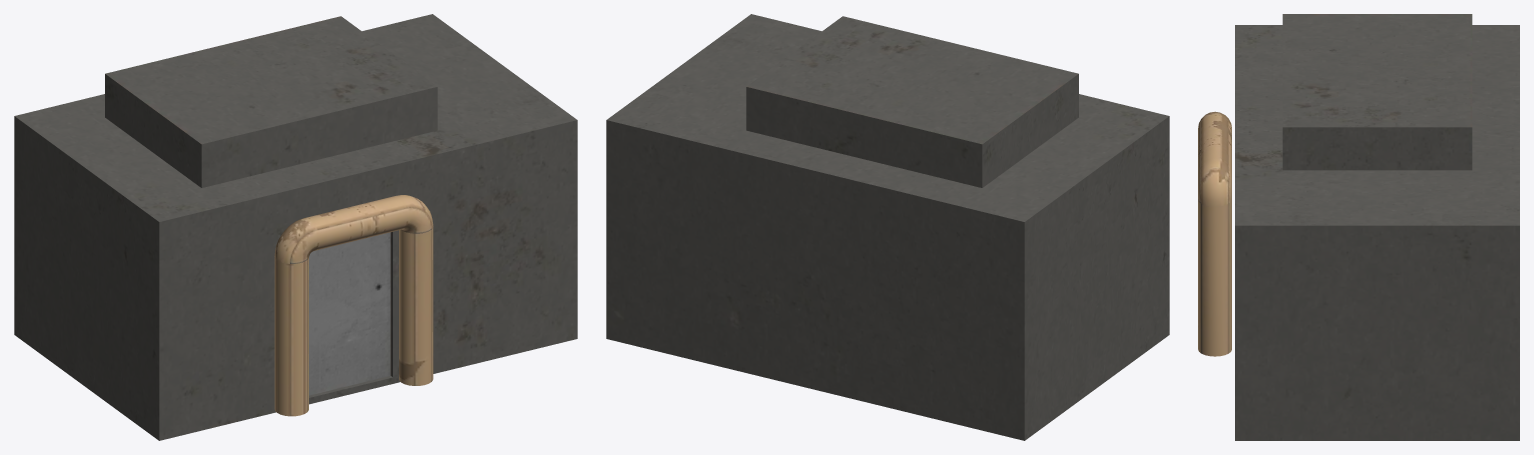
Rendered from sm_cb01_module19.glb.
3 renders of one model, left to right at view 1: azimuth 30°, elevation 25°; view 2: azimuth 150°, elevation 25°; view 3: azimuth 270°, elevation 25°, orthographic.
Visible parts, largest first — view 1: sm_cb01_module19_00; view 2: sm_cb01_module19_00; view 3: sm_cb01_module19_00.
Part boxes in pixels (x1,y1,x2,y2): sm_cb01_module19_00: (14,14,577,440); sm_cb01_module19_00: (606,14,1169,440); sm_cb01_module19_00: (1198,14,1519,440).
Bounding box in the file's own units: 5 × 3 × 3.39.
1 material, 1 textured.
